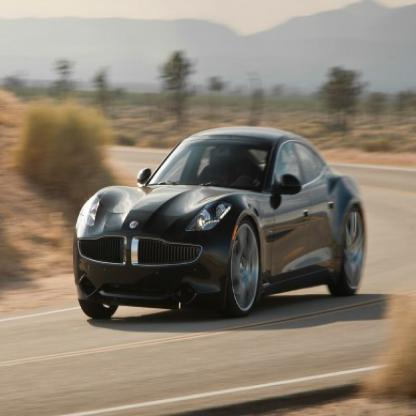Vehicle: (73, 126, 367, 325)
